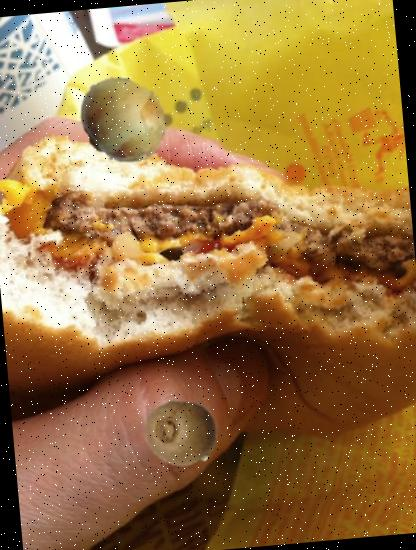Kiwi: (142, 393, 222, 472)
Onion: (73, 68, 175, 170)
